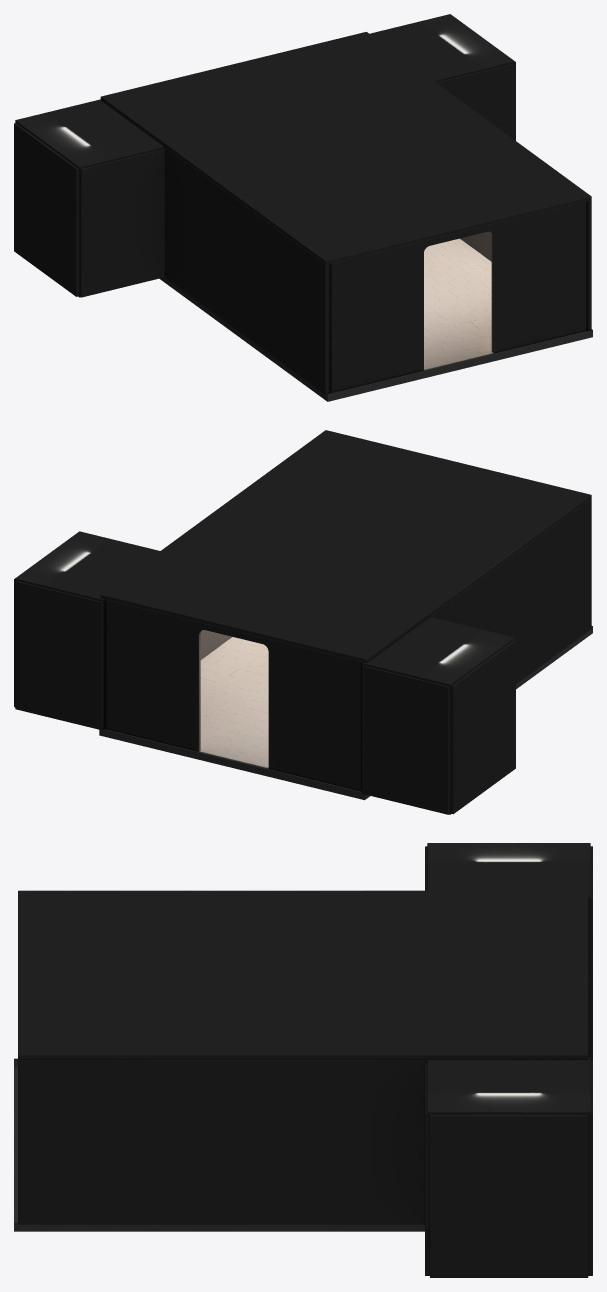
File: extension-contemporary.glb
3 views of the same model, one above another, from view 1: azimuth 30°, elevation 25°; view 2: azimuth 150°, elevation 25°; view 3: azimuth 270°, elevation 25° (orthographic). The views are drawn at different scales.
Visible parts, largest first — view 1: LIGHTMAP extension walls, SURFACE extension floor; view 2: LIGHTMAP extension walls, SURFACE extension floor; view 3: LIGHTMAP extension walls, SURFACE extension floor.
Part boxes in pixels (x1=…): LIGHTMAP extension walls: x1=14, y1=14, x2=591, y2=394; SURFACE extension floor: x1=78, y1=238, x2=592, y2=401; LIGHTMAP extension walls: x1=14, y1=430, x2=591, y2=814; SURFACE extension floor: x1=99, y1=626, x2=592, y2=814; LIGHTMAP extension walls: x1=18, y1=843, x2=592, y2=1277; SURFACE extension floor: x1=14, y1=1058, x2=424, y2=1231.
Bounding box in the file's own units: 20.3 × 6.16 × 18.27.
18 materials, 17 textured.
